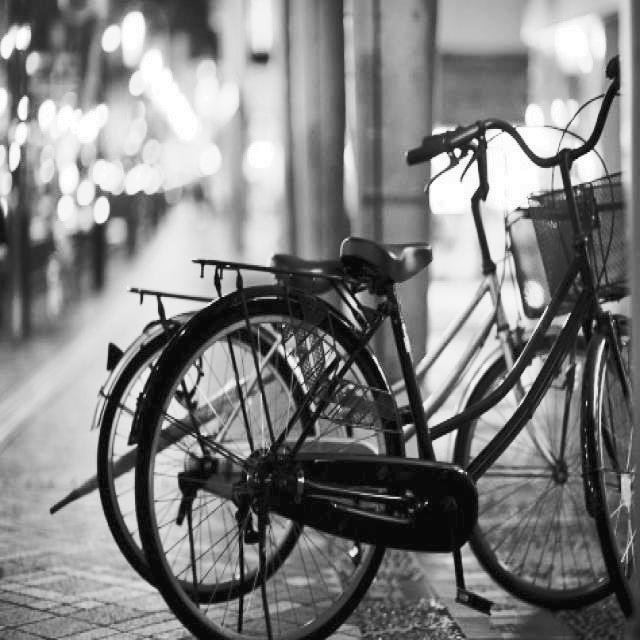Bicycle: (163, 141, 640, 640)
